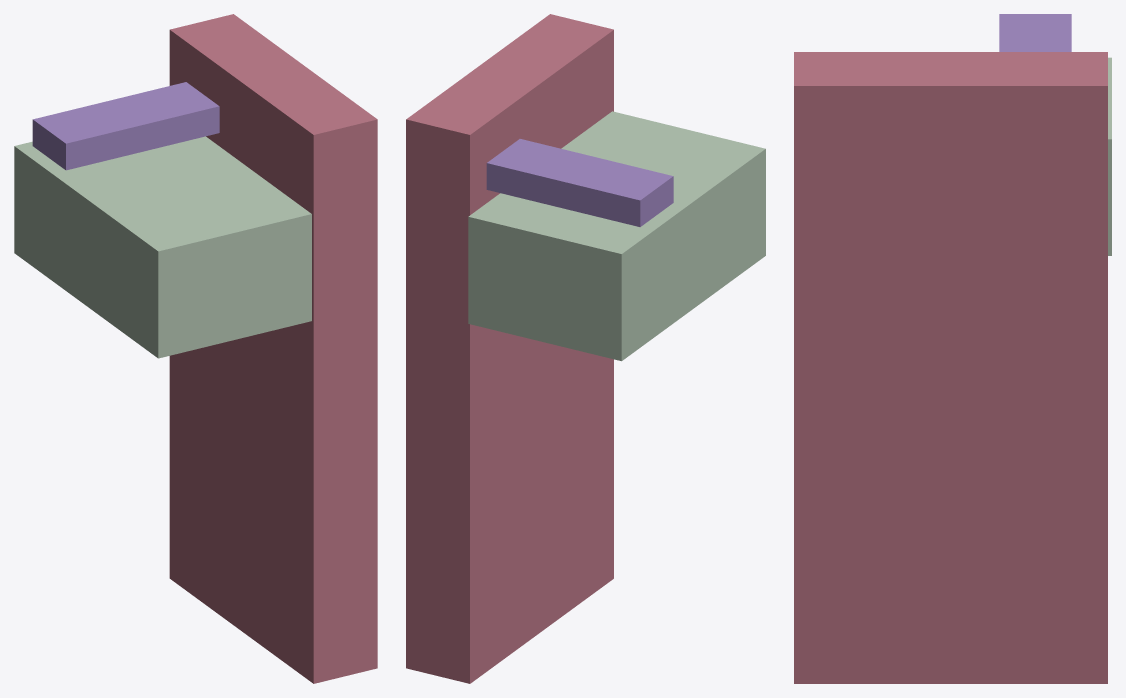
File: 199519_pred.glb
3 renders of one model, left to right at view 1: azimuth 30°, elevation 25°; view 2: azimuth 150°, elevation 25°; view 3: azimuth 270°, elevation 25°, orthographic. The views are drawn at different scales.
Visible parts, largest first — view 1: world; view 2: world; view 3: world.
Boxes of the visible parts, x1=… form: world: x1=14, y1=14, x2=377, y2=683; world: x1=406, y1=14, x2=765, y2=683; world: x1=794, y1=14, x2=1111, y2=683.
Size of the model in its own units: 3.4 by 8.2 by 3.95.
